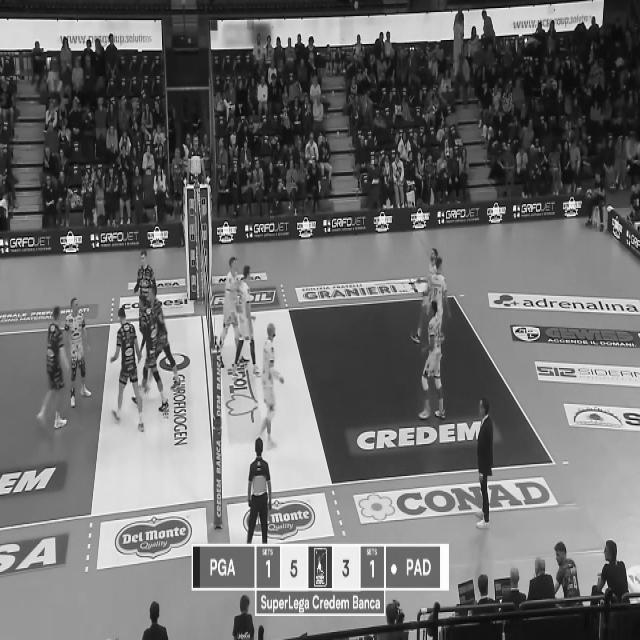volleyball court: (0, 292, 558, 532)
